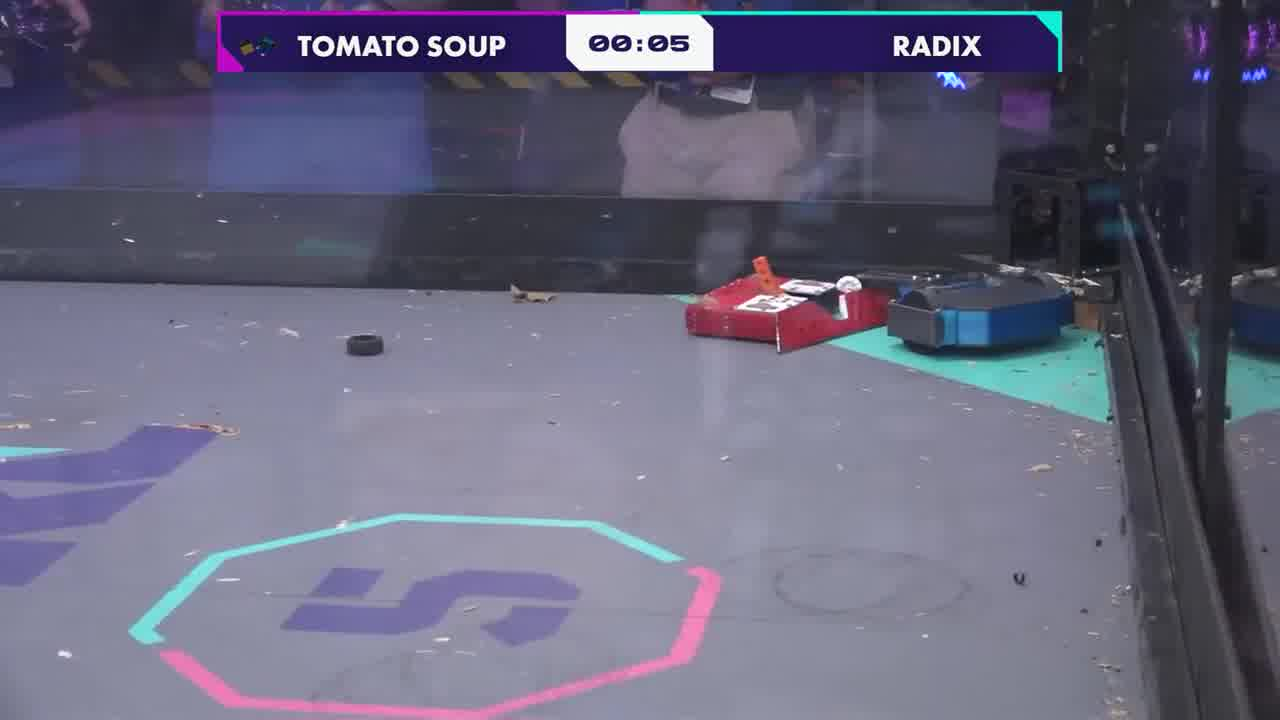combatbot: (683, 253, 893, 352), (859, 264, 1076, 355)
debris: (345, 333, 385, 360), (508, 283, 559, 304), (1009, 570, 1030, 587)
